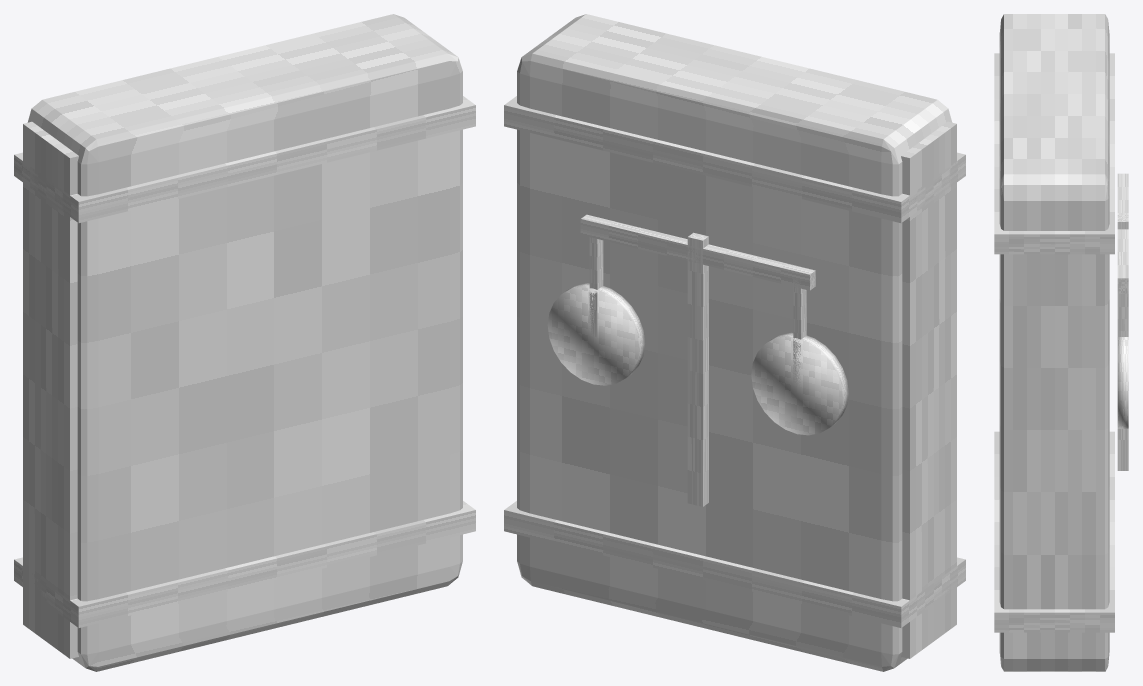
File: justiciar.obj
3 views of the same model, side by side, from view 1: azimuth 30°, elevation 25°; view 2: azimuth 150°, elevation 25°; view 3: azimuth 270°, elevation 25° (orthographic). The views are drawn at different scales.
Bounding box in the file's own units: 0.741 × 0.95 × 0.2328.
